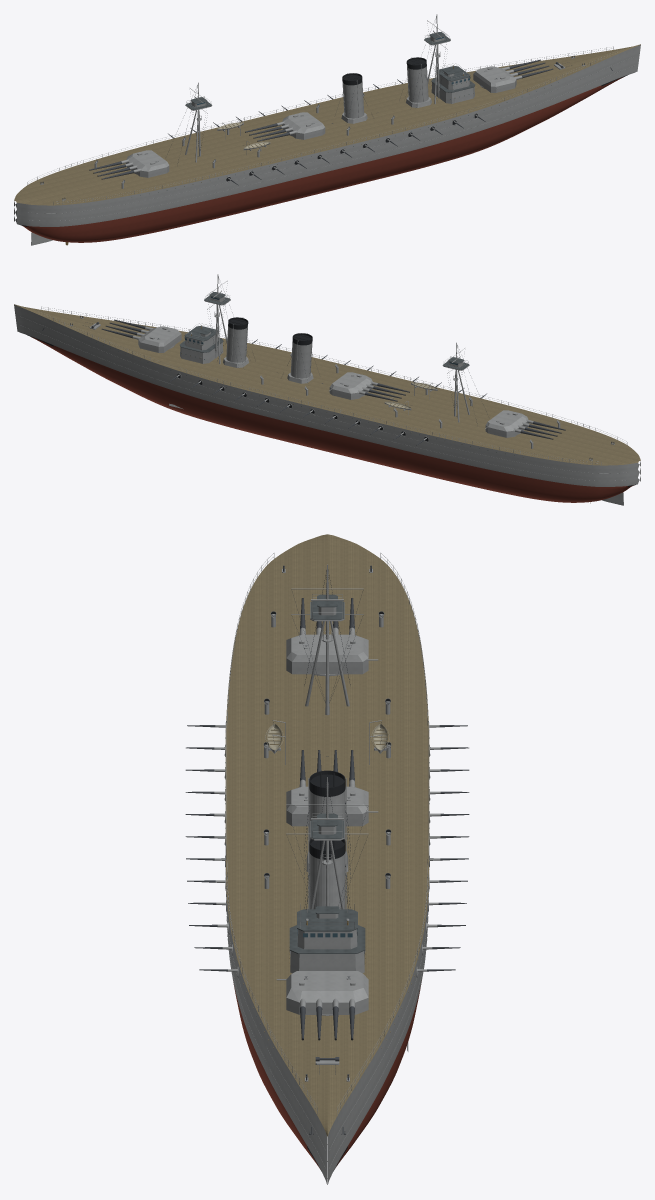
The model's file is normandie.glb.
3 renders of one model, top to bottom at view 1: azimuth 30°, elevation 25°; view 2: azimuth 150°, elevation 25°; view 3: azimuth 270°, elevation 25°, orthographic. The views are drawn at different scales.
Visible parts, largest first — view 1: Normandie class (suspended); view 2: Normandie class (suspended); view 3: Normandie class (suspended).
Part boxes in pixels (x1,y1,x2,y2): Normandie class (suspended): [14, 14, 640, 245]; Normandie class (suspended): [14, 274, 640, 505]; Normandie class (suspended): [185, 534, 469, 1184].
Size of the model in its own units: 193 by 39.84 by 38.01.
9 materials, 8 textured.
